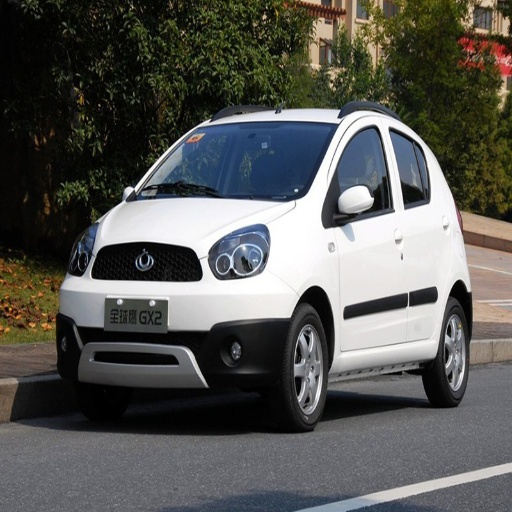front_bumper: (60, 237, 298, 390)
front_glass: (129, 125, 337, 201)
front_left_door: (325, 116, 407, 353)
